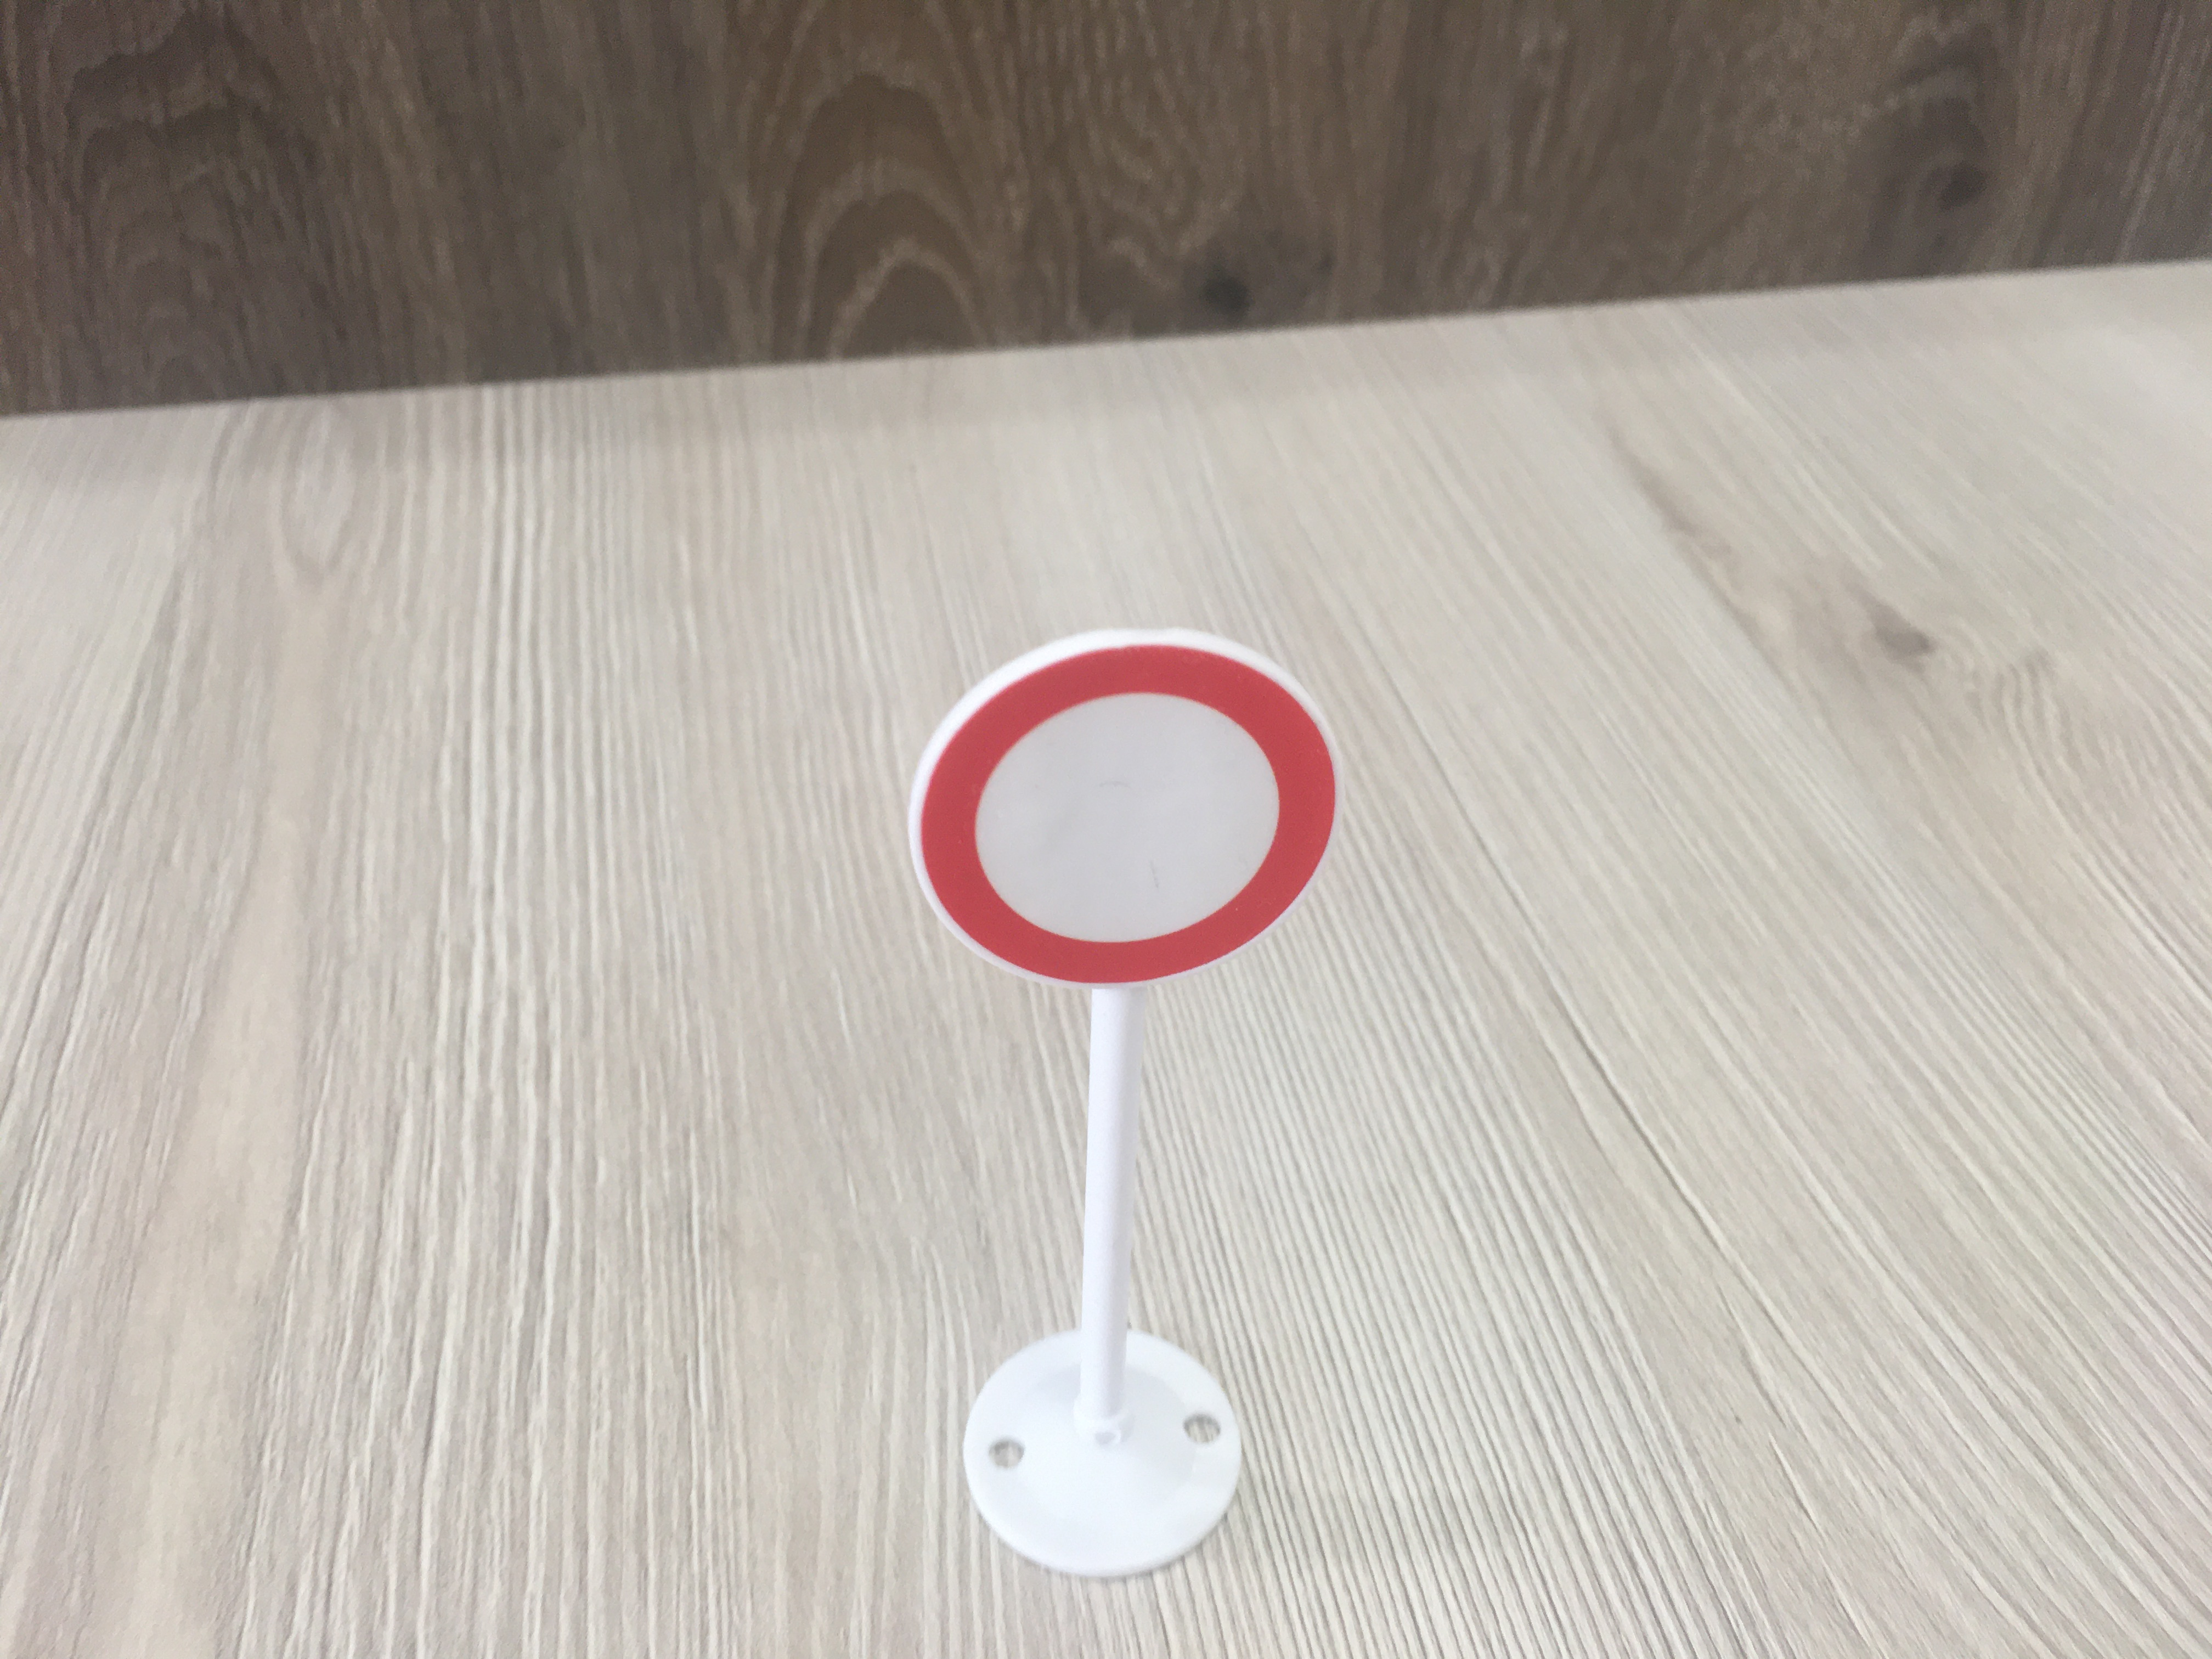noDrive: (906, 631, 1346, 986)
